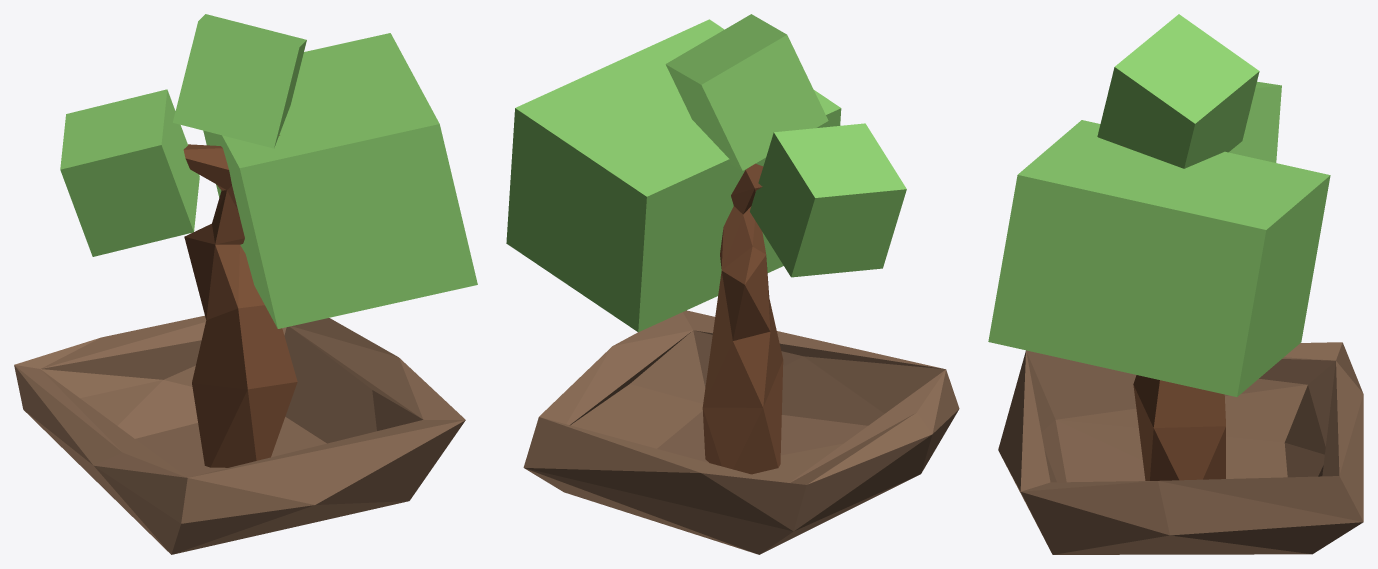
File: Plant01.fbx
3 renders of one model, left to right at view 1: azimuth 30°, elevation 25°; view 2: azimuth 150°, elevation 25°; view 3: azimuth 270°, elevation 25°, orthographic. The views are drawn at different scales.
Parts seen in each view (by area): view 1: Cube.014, Cube.012, Cube.013, Cube.011, Cube.010; view 2: Cube.014, Cube.012, Cube.011, Cube.013, Cube.010; view 3: Cube.012, Cube.014, Cube.010, Cube.013, Cube.011.
Part boxes in pixels (x1=…): Cube.014: x1=14, y1=315, x2=465, y2=554; Cube.012: x1=203, y1=33, x2=477, y2=328; Cube.013: x1=183, y1=135, x2=297, y2=467; Cube.011: x1=60, y1=89, x2=199, y2=256; Cube.010: x1=173, y1=14, x2=306, y2=148; Cube.014: x1=523, y1=310, x2=959, y2=554; Cube.012: x1=506, y1=19, x2=841, y2=332; Cube.011: x1=750, y1=123, x2=906, y2=277; Cube.013: x1=702, y1=163, x2=783, y2=474; Cube.010: x1=665, y1=14, x2=828, y2=170; Cube.012: x1=988, y1=120, x2=1330, y2=396; Cube.014: x1=998, y1=342, x2=1363, y2=554; Cube.010: x1=1097, y1=14, x2=1259, y2=168; Cube.013: x1=1123, y1=146, x2=1225, y2=480; Cube.011: x1=1229, y1=81, x2=1281, y2=162.
Size of the model in its own units: 39.61 by 45.84 by 33.04.
